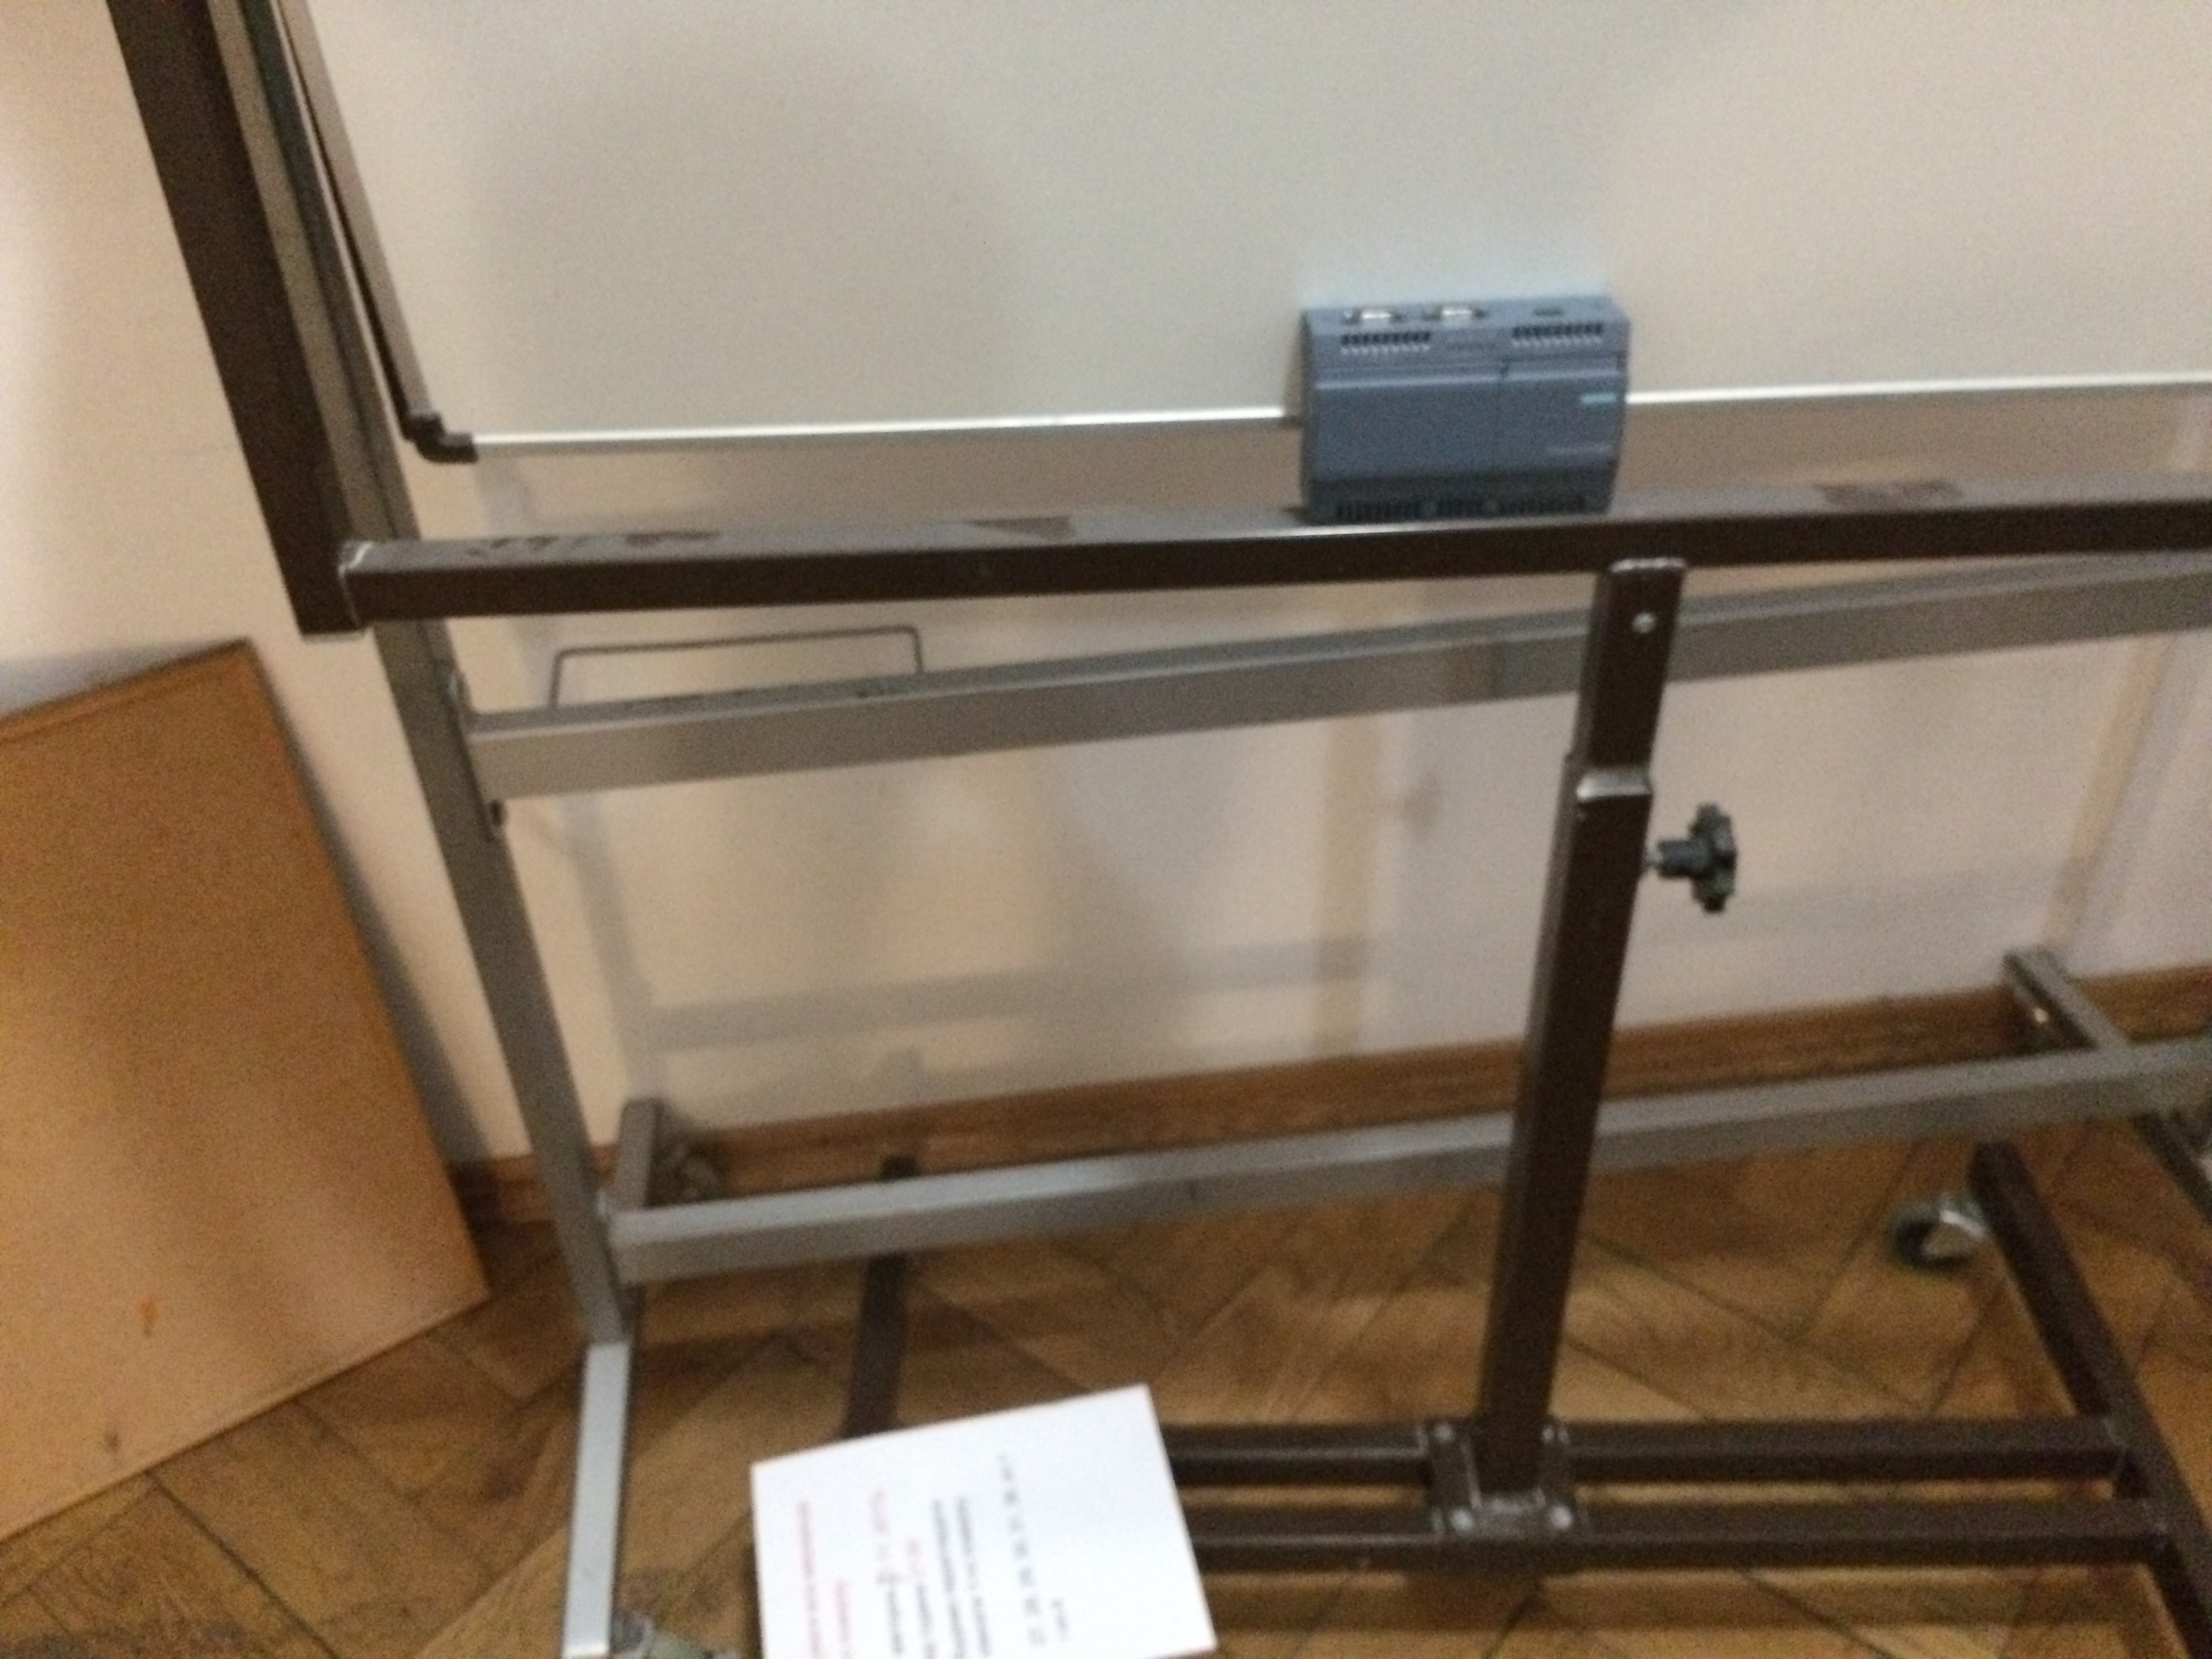iot2000: (1296, 291, 1632, 528)
